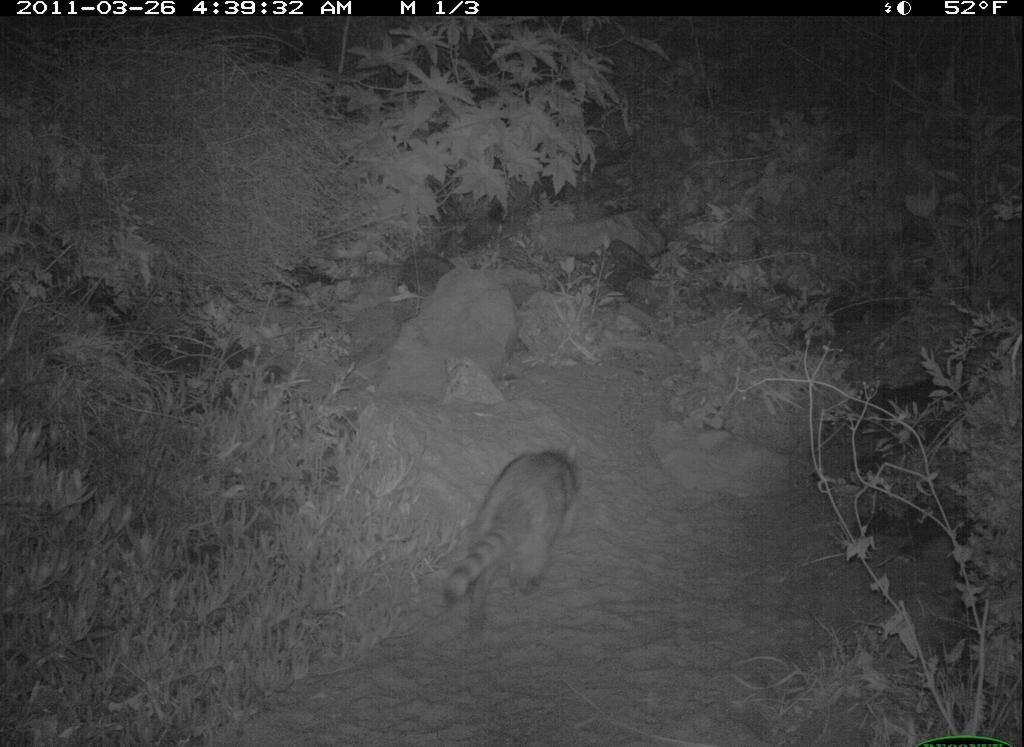raccoon: (434, 428, 606, 664)
